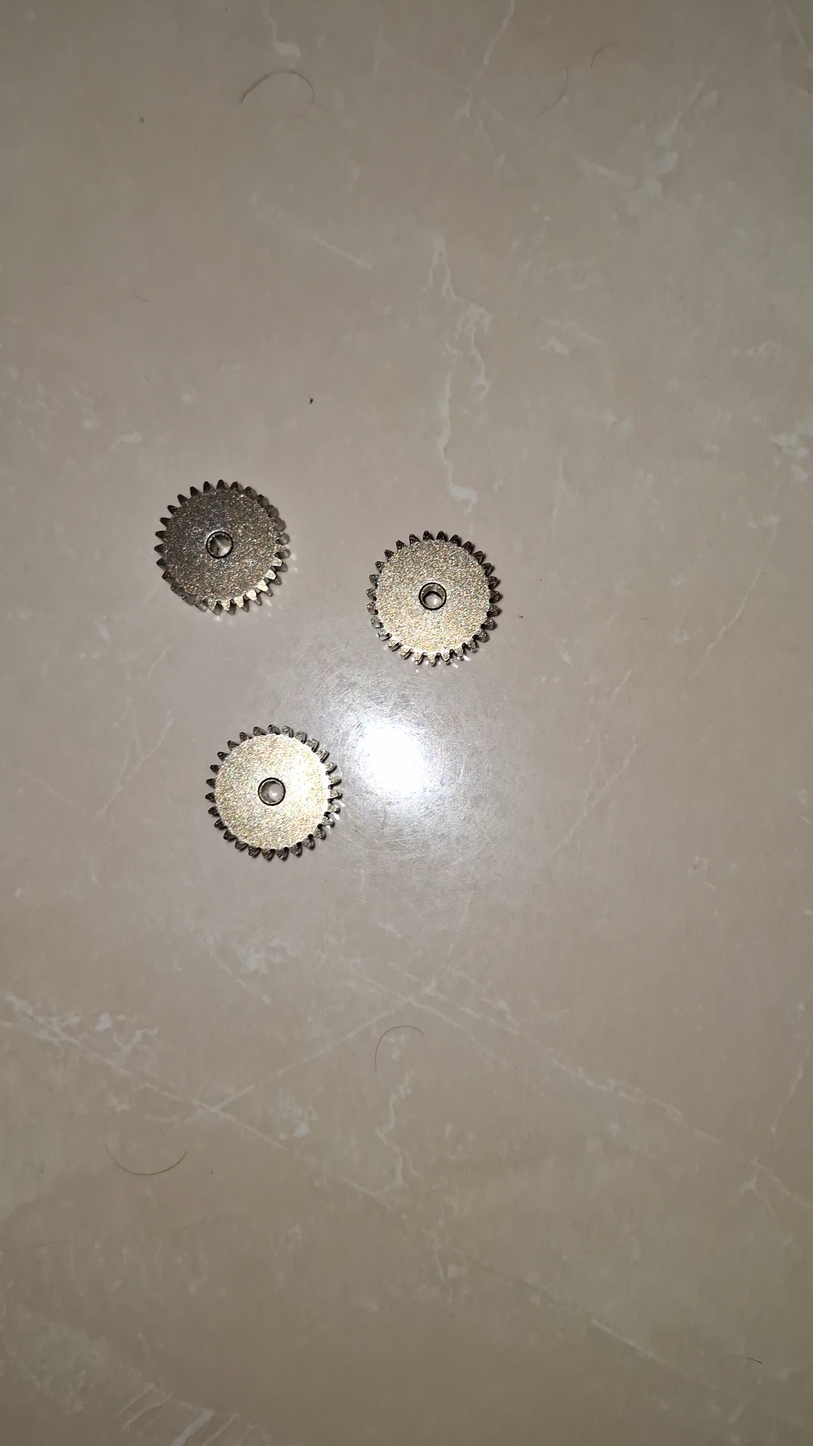spur gear: (206, 725, 341, 859), (368, 532, 500, 664), (156, 481, 289, 611)
